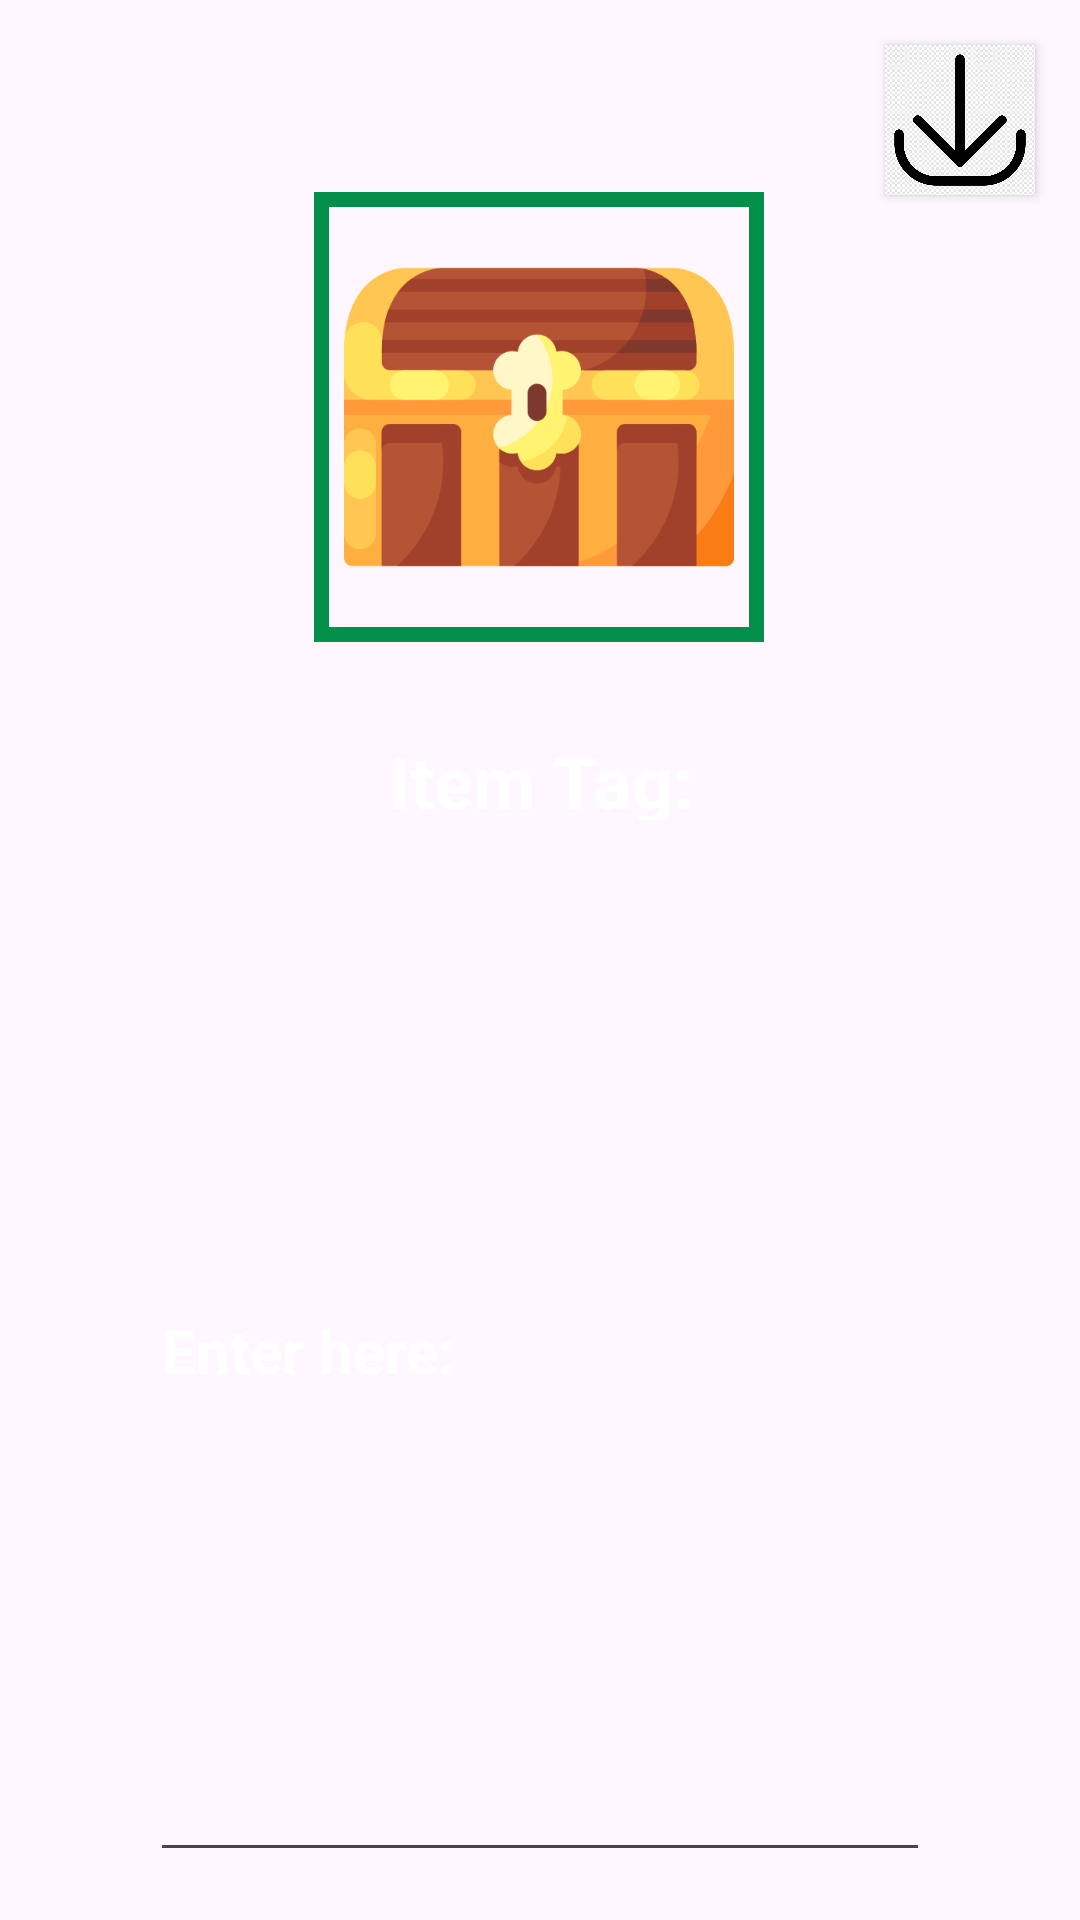

Point at icon controls on the screen. Image size 1080x1920, points as (x=x, y=y).
save: (x=960, y=120)
